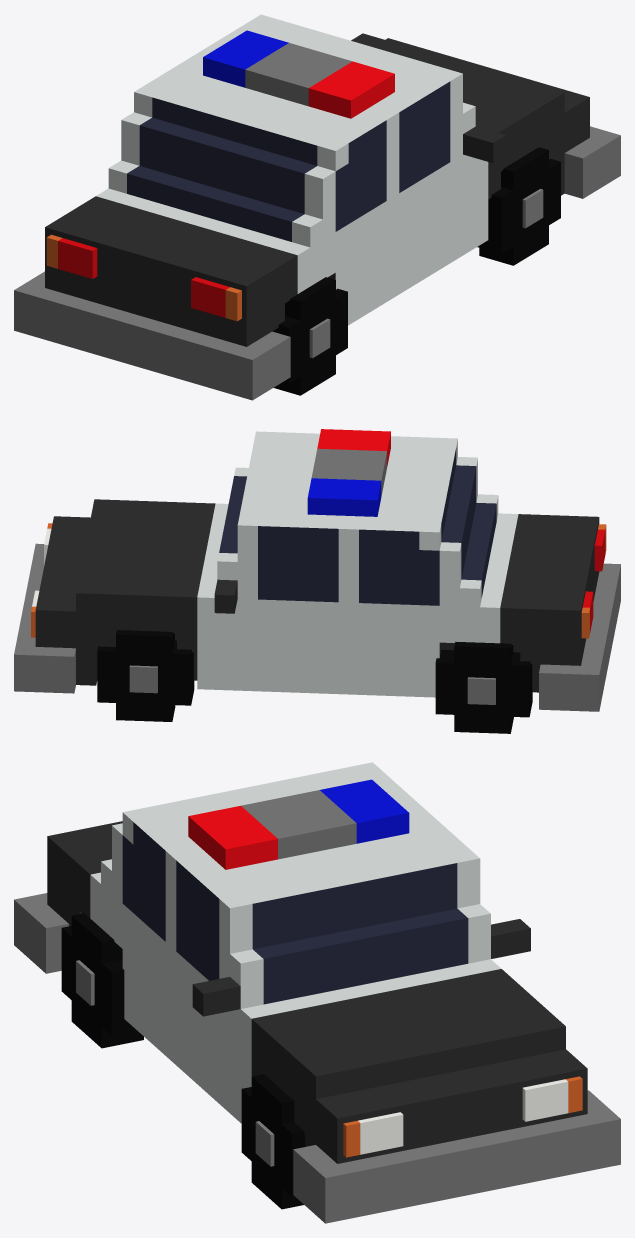
Rendered from police.fbx.
The picture shows the model from 3 angles, top to bottom: view 1: azimuth 30°, elevation 25°; view 2: azimuth 150°, elevation 25°; view 3: azimuth 270°, elevation 25°; orthographic projection. The views are drawn at different scales.
Visible parts, largest first — view 1: mod_voiture_police, mod_roue_avant_police, mod_roue_arriere_police; view 2: mod_voiture_police, mod_roue_arriere_police, mod_roue_avant_police; view 3: mod_voiture_police, mod_roue_arriere_police, mod_roue_avant_police.
Boxes of the visible parts, bbox=[...] form: mod_voiture_police: bbox=[14, 14, 620, 400]; mod_roue_avant_police: bbox=[477, 147, 560, 265]; mod_roue_arriere_police: bbox=[272, 277, 347, 395]; mod_voiture_police: bbox=[14, 429, 620, 711]; mod_roue_arriere_police: bbox=[435, 641, 532, 733]; mod_roue_avant_police: bbox=[97, 630, 194, 721]; mod_voiture_police: bbox=[14, 762, 620, 1223]; mod_roue_arriere_police: bbox=[61, 913, 143, 1048]; mod_roue_avant_police: bbox=[241, 1074, 305, 1209].
Bounding box in the file's own units: 466 × 169 × 354.
